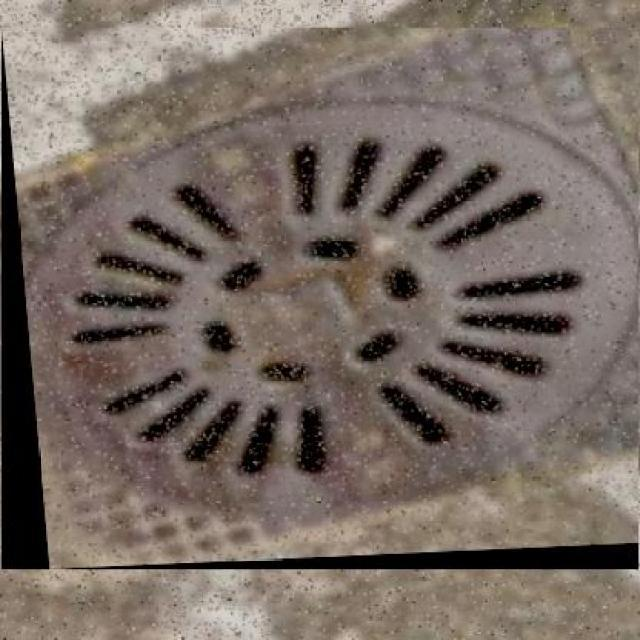Manhole: (1, 28, 638, 570)
